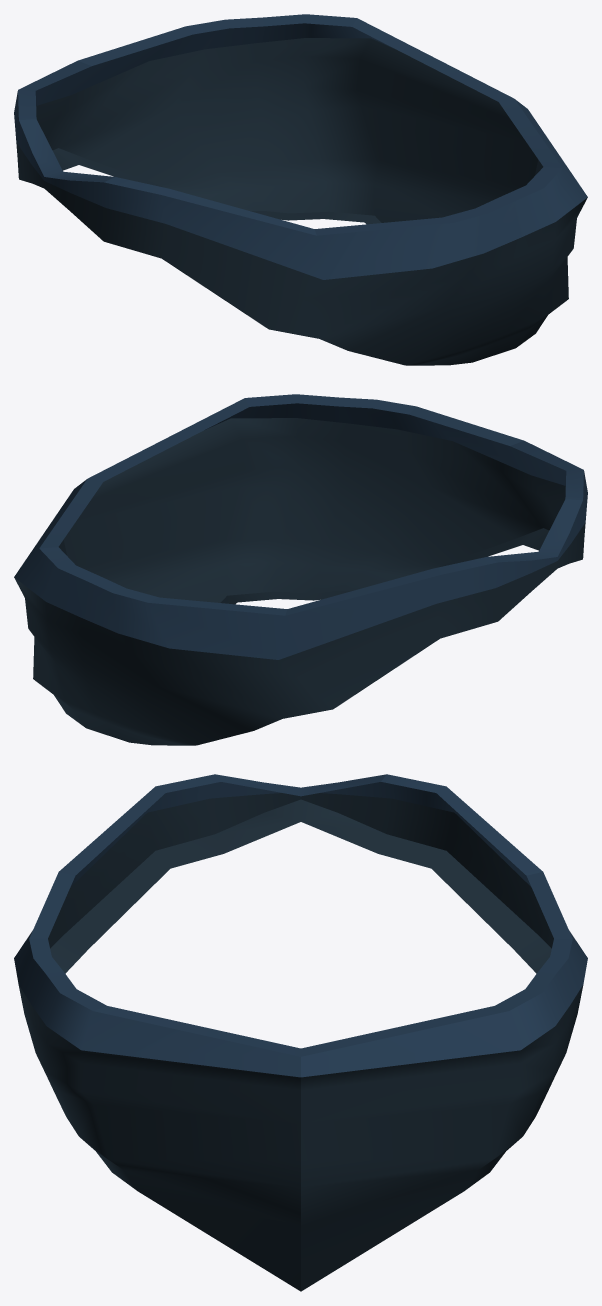
Rendered from Bandana.fbx.
3 views of the same model, one above another, from view 1: azimuth 30°, elevation 25°; view 2: azimuth 150°, elevation 25°; view 3: azimuth 270°, elevation 25° (orthographic).
Visible parts, largest first — view 1: polySurface2; view 2: polySurface2; view 3: polySurface2.
Boxes of the visible parts, x1,y1,x2,y2 form: polySurface2: (14, 14, 587, 365); polySurface2: (14, 394, 587, 745); polySurface2: (14, 774, 587, 1291).
Bounding box in the file's own units: 2.43 × 1.4 × 2.4.
